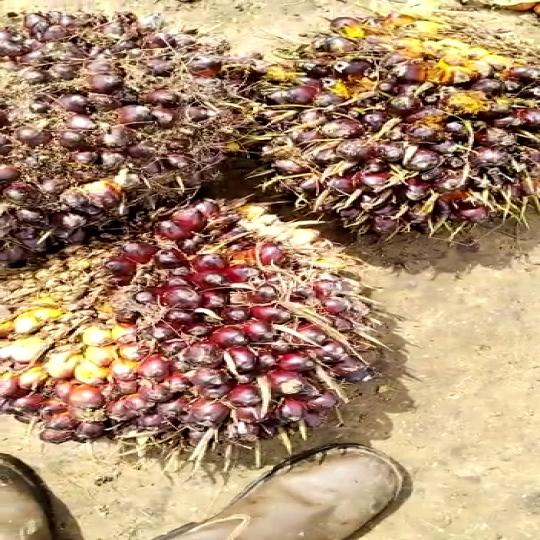kurang masak: (0, 201, 377, 459), (246, 7, 540, 248), (0, 3, 256, 262)
